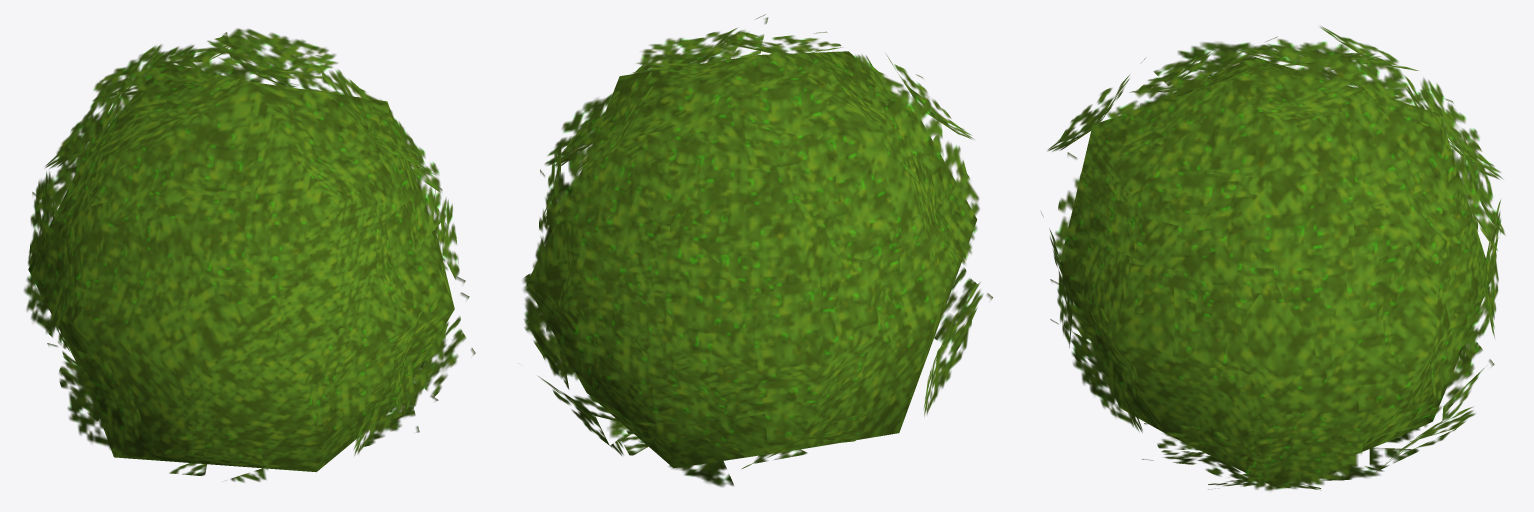
The model's file is bush-0.glb.
3 renders of one model, left to right at view 1: azimuth 30°, elevation 25°; view 2: azimuth 150°, elevation 25°; view 3: azimuth 270°, elevation 25°, orthographic.
Parts seen in each view (by area): view 1: Mesh_0; view 2: Mesh_0; view 3: Mesh_0.
Boxes of the visible parts, bbox=[...] form: Mesh_0: bbox=[24, 28, 475, 482]; Mesh_0: bbox=[523, 14, 992, 486]; Mesh_0: bbox=[1040, 26, 1505, 490].
Bounding box in the file's own units: 0.9351 × 0.8542 × 0.9761.
1 material, 1 textured.
